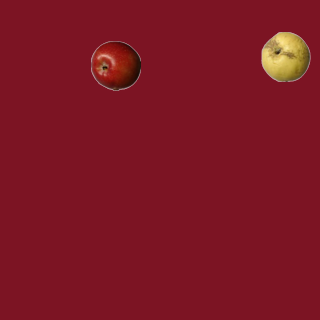Apple Braeburn: (90, 40, 140, 90)
Apple Golden 1: (260, 31, 310, 81)
